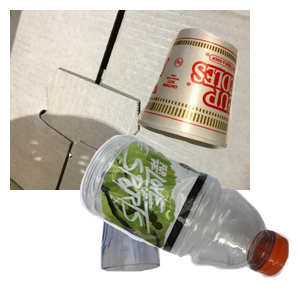cardboard: (10, 10, 250, 190)
glass: (98, 168, 251, 300)
plastic: (77, 132, 300, 300)
trash: (133, 25, 300, 167)
